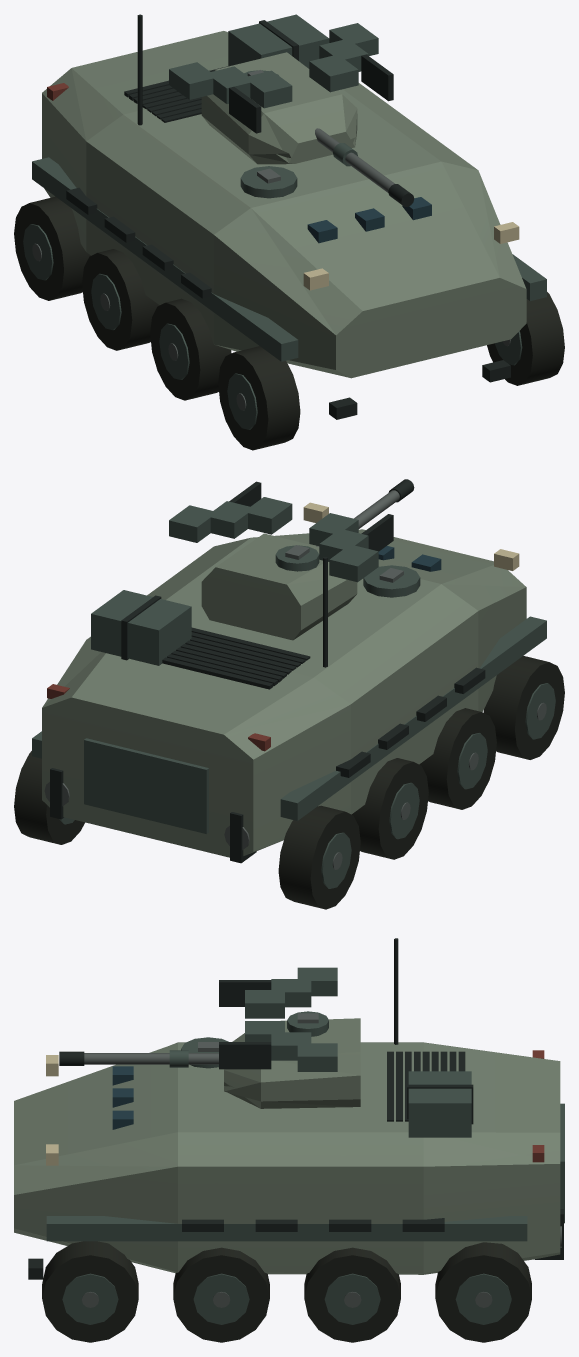
The model's file is apc.glb.
3 views of the same model, one above another, from view 1: azimuth 30°, elevation 25°; view 2: azimuth 150°, elevation 25°; view 3: azimuth 270°, elevation 25° (orthographic). The views are drawn at different scales.
Parts seen in each view (by area): view 1: armor (×2), equipment (×3), glass; view 2: armor (×2), equipment (×3), glass; view 3: armor (×2), equipment (×3), glass.
Part boxes in pixels (x1,y1,x2,y2): armor (×2): (42, 31, 526, 378); equipment (×3): (14, 14, 564, 450); glass: (307, 197, 431, 243); armor (×2): (42, 529, 526, 857); equipment (×3): (14, 479, 564, 909); glass: (378, 546, 441, 571); armor (×2): (14, 1018, 560, 1274); equipment (×3): (28, 938, 564, 1342); glass: (112, 1066, 133, 1129).
Size of the model in its own units: 3.19 by 3.05 by 5.24.
